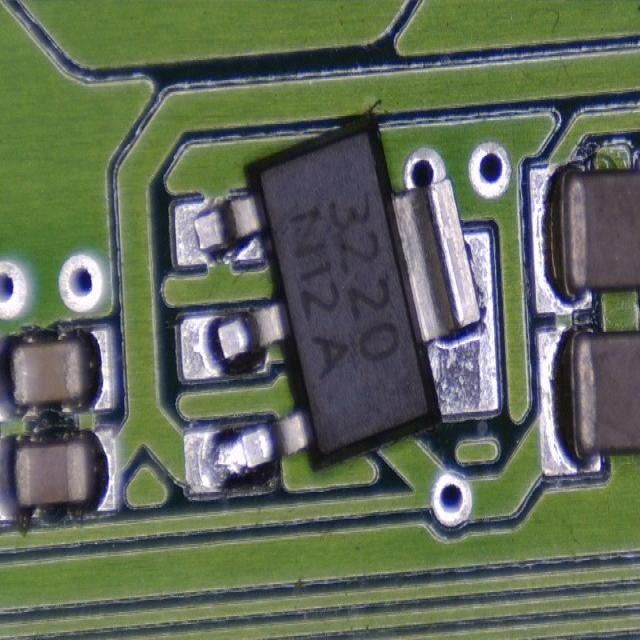Incorrect_installation: (173, 116, 500, 498)
Short_circuit: (391, 147, 498, 415)
